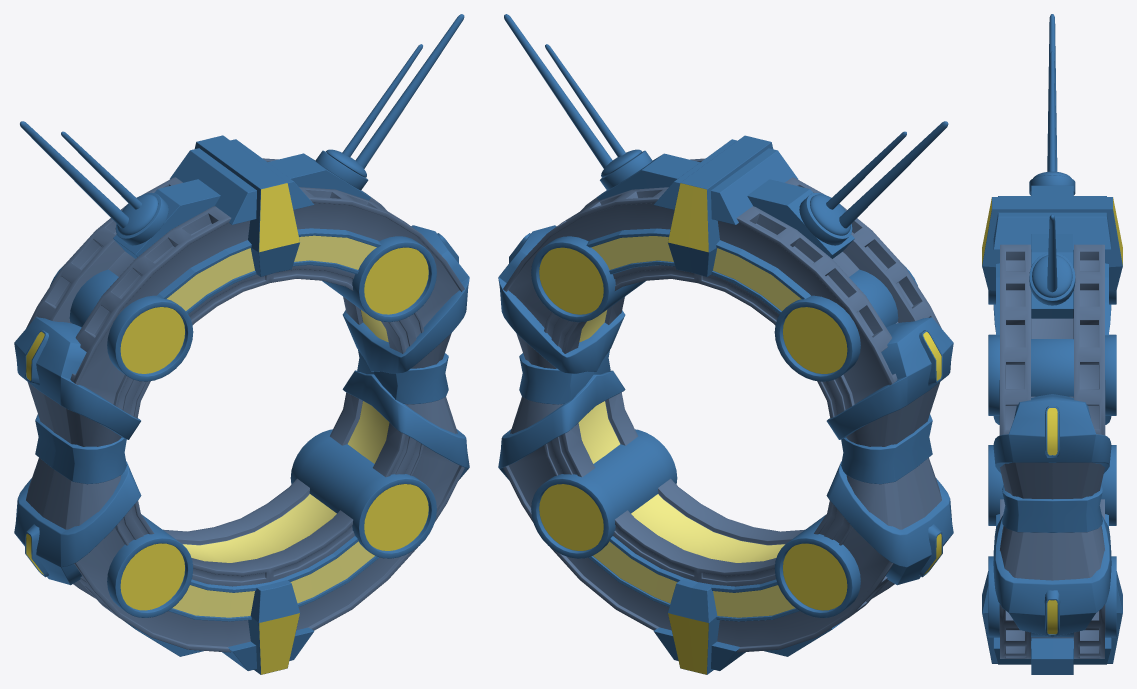
Rendered from RingCheckPoint_wUVs_NoMods.fbx.
3 views of the same model, side by side, from view 1: azimuth 30°, elevation 25°; view 2: azimuth 150°, elevation 25°; view 3: azimuth 270°, elevation 25° (orthographic). The views are drawn at different scales.
Parts seen in each view (by area): view 1: Ring_Body_Main, SideRing_OffsetMiddle, GlowRings_Housing, GlowRingEmissivePiece, FrontArchHighlight, SideDetail, SideMiddleRing, CenterDividingPiece, Antenas, TopPiece, TopMiddleBlock, FrontArchHighlight_Housing (+3 smaller); view 2: Ring_Body_Main, SideRing_OffsetMiddle, GlowRings_Housing, GlowRingEmissivePiece, FrontArchHighlight, SideDetail, SideMiddleRing, CenterDividingPiece, Antenas, TopPiece, TopMiddleBlock, FrontArchHighlight_Housing (+3 smaller); view 3: Ring_Body_Main, SideRing_OffsetMiddle, SideDetail, GlowRings_Housing, CenterDividingPiece, TopPiece, TopMiddleBlock, SideMiddleRing, AntenaBase, Antenas, SideHighLight, SideHighLight_Housing (+2 smaller).
Part boxes in pixels (bbox=[...]): Ring_Body_Main: bbox=[26, 158, 464, 652]; SideRing_OffsetMiddle: bbox=[14, 225, 469, 585]; GlowRings_Housing: bbox=[50, 236, 436, 617]; GlowRingEmissivePiece: bbox=[120, 247, 428, 610]; FrontArchHighlight: bbox=[167, 235, 376, 617]; SideDetail: bbox=[26, 333, 457, 529]; SideMiddleRing: bbox=[35, 350, 448, 484]; CenterDividingPiece: bbox=[194, 135, 299, 674]; Antenas: bbox=[20, 14, 464, 228]; TopPiece: bbox=[170, 139, 314, 670]; TopMiddleBlock: bbox=[113, 153, 370, 656]; FrontArchHighlight_Housing: bbox=[157, 228, 381, 621]; Ring_Body_Main: bbox=[503, 158, 941, 652]; SideRing_OffsetMiddle: bbox=[498, 225, 953, 585]; GlowRings_Housing: bbox=[531, 236, 917, 617]; GlowRingEmissivePiece: bbox=[539, 247, 847, 610]; FrontArchHighlight: bbox=[591, 236, 801, 617]; SideDetail: bbox=[510, 333, 941, 529]; SideMiddleRing: bbox=[519, 350, 932, 484]; CenterDividingPiece: bbox=[668, 135, 773, 674]; Antenas: bbox=[504, 14, 948, 228]; TopPiece: bbox=[653, 139, 798, 670]; TopMiddleBlock: bbox=[597, 153, 854, 656]; FrontArchHighlight_Housing: bbox=[586, 228, 810, 621]; Ring_Body_Main: bbox=[999, 244, 1105, 658]; SideRing_OffsetMiddle: bbox=[993, 304, 1111, 637]; SideDetail: bbox=[1000, 462, 1104, 580]; GlowRings_Housing: bbox=[988, 290, 1116, 637]; CenterDividingPiece: bbox=[982, 197, 1122, 663]; TopPiece: bbox=[993, 196, 1111, 664]; TopMiddleBlock: bbox=[1031, 185, 1073, 674]; SideMiddleRing: bbox=[1002, 485, 1102, 532]; AntenaBase: bbox=[1029, 171, 1075, 305]; Antenas: bbox=[1047, 14, 1057, 292]; SideHighLight: bbox=[1047, 408, 1057, 634]; SideHighLight_Housing: bbox=[1044, 406, 1060, 635].
Size of the model in its own units: 285 by 355 by 83.52.
